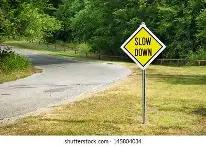Slow: (123, 26, 163, 66)
